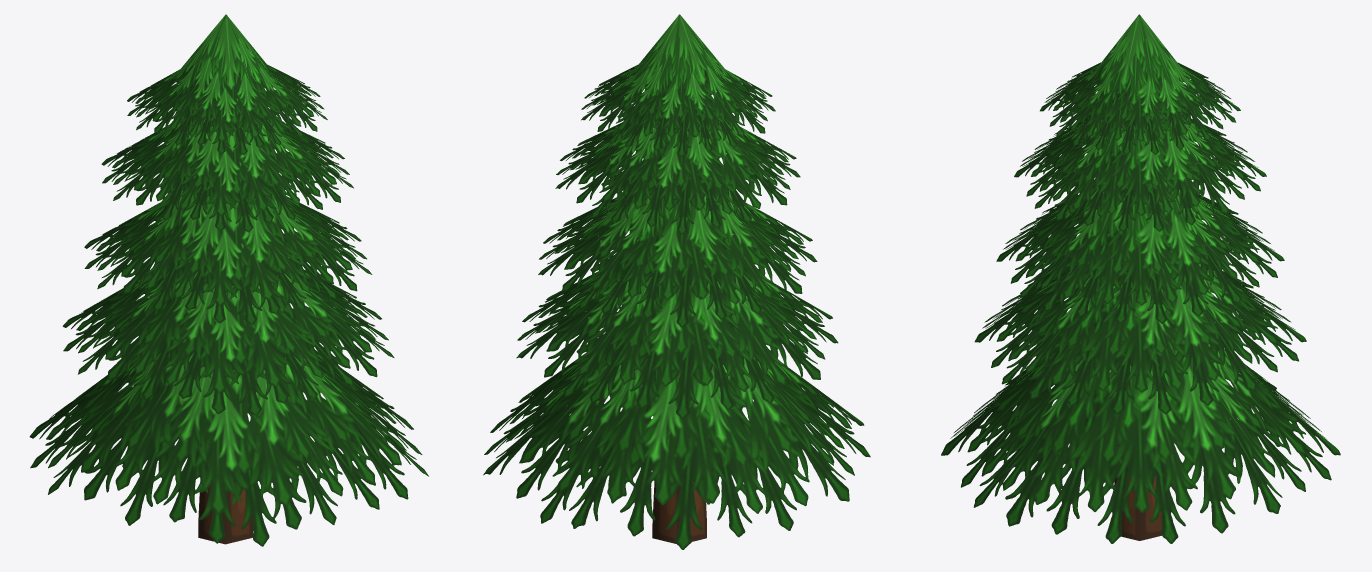
Rendered from PineTree.FBX.
3 views of the same model, side by side, from view 1: azimuth 30°, elevation 25°; view 2: azimuth 150°, elevation 25°; view 3: azimuth 270°, elevation 25° (orthographic).
Parts seen in each view (by area): view 1: Object488; view 2: Object488; view 3: Object488.
Boxes of the visible parts, x1,y1,x2,y2 form: Object488: [29, 14, 428, 546]; Object488: [483, 14, 870, 549]; Object488: [941, 14, 1340, 543].
Size of the model in its own units: 139 by 180 by 139.
Materials: 1 (1 with a texture image).
